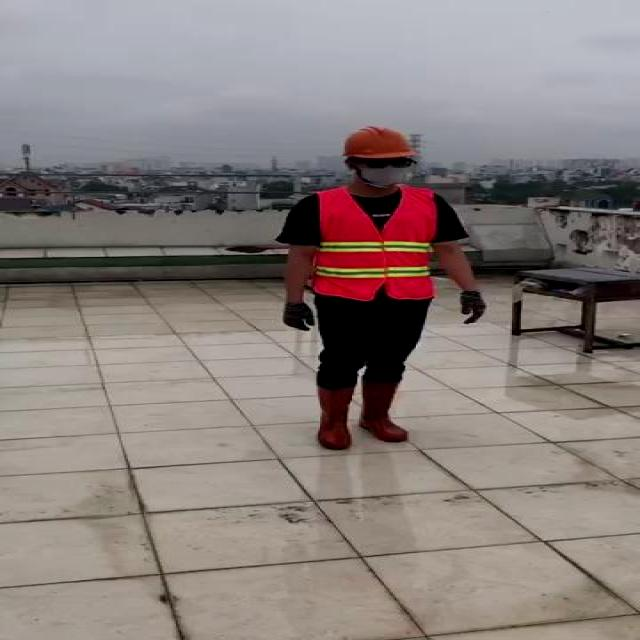boots: (361, 377, 411, 442), (313, 381, 357, 450)
face_mask: (356, 155, 414, 188)
glasses: (361, 154, 416, 172)
hand_glove: (279, 303, 318, 333), (457, 291, 489, 327)
head_helmet: (338, 124, 418, 162)
person: (273, 120, 495, 456)
vest: (315, 185, 439, 301)
